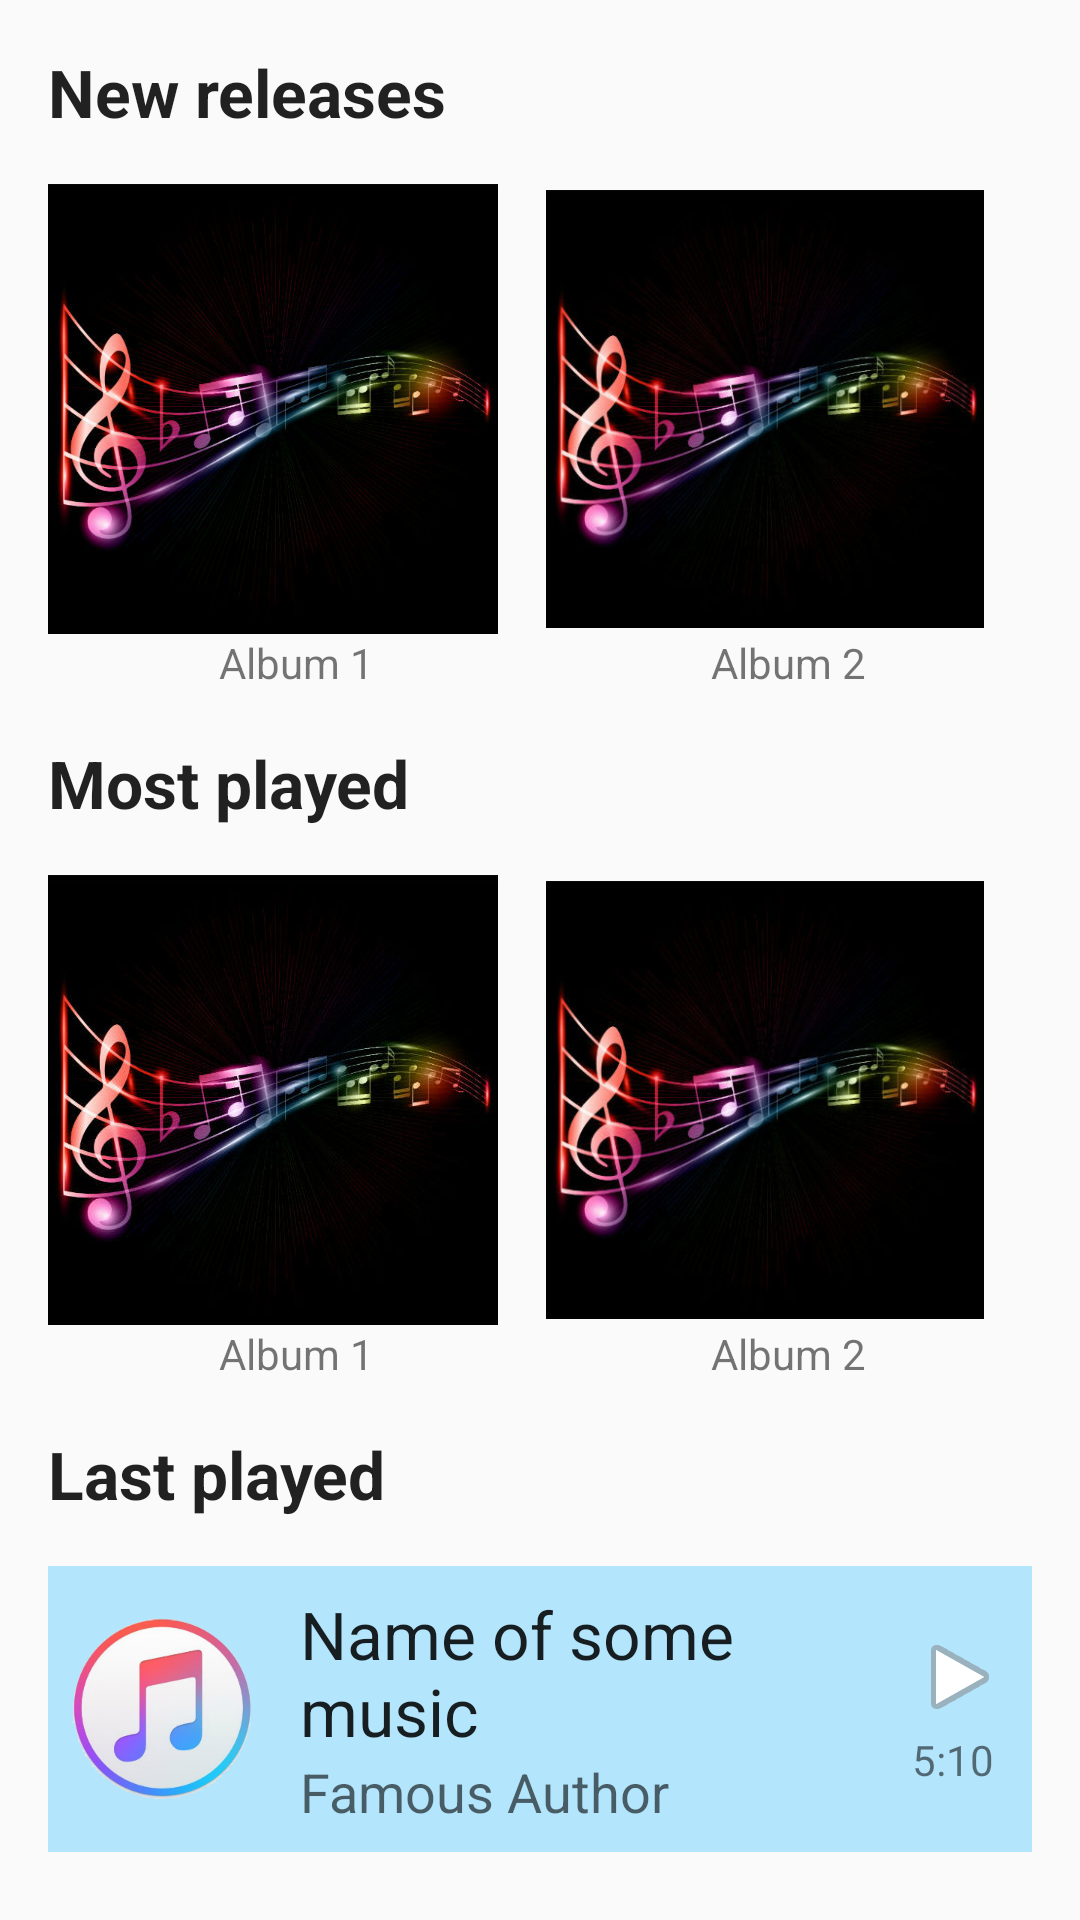

Icon click points for this 1080px×1920px phone screenshot, format [x,y]:
play: [960,1677]
